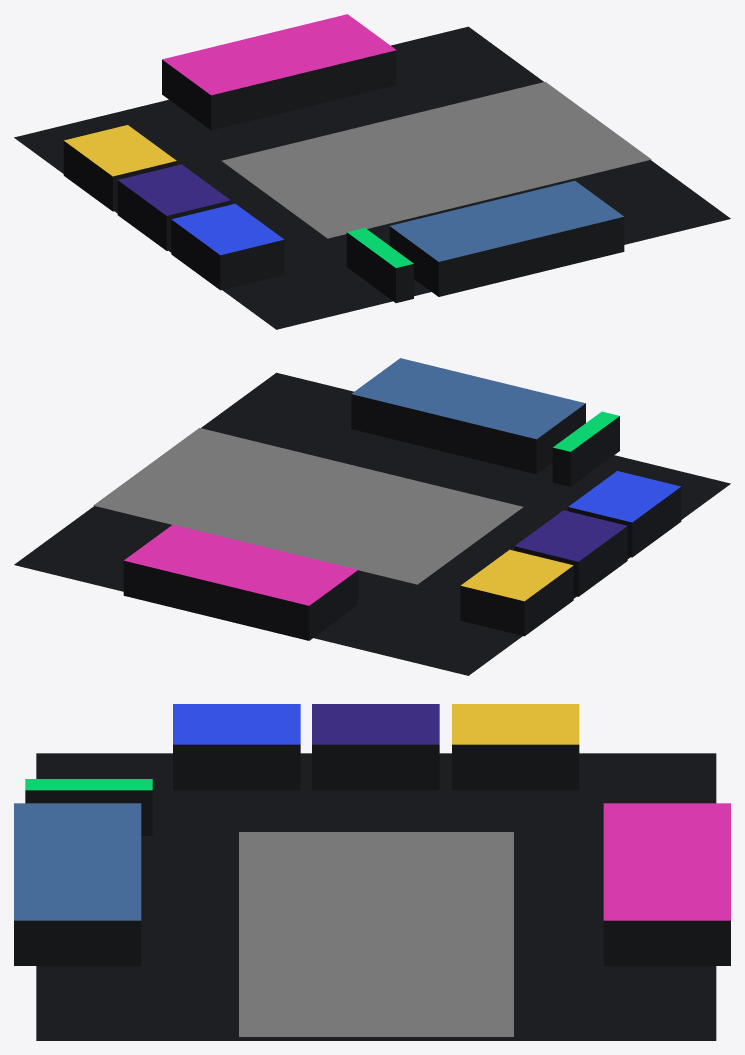
The model's file is Piso2_AgoraMap.glb.
3 views of the same model, one above another, from view 1: azimuth 30°, elevation 25°; view 2: azimuth 150°, elevation 25°; view 3: azimuth 270°, elevation 25° (orthographic). The views are drawn at different scales.
Visible parts, largest first — view 1: Cube.040, Cube.053, Cube.048, Cube.049, Cube.047, Cube.050, Cube.046, Cube.041, Cube.044, Cube.045, Cube.051, Cube.042 (+2 smaller); view 2: Cube.040, Cube.053, Cube.049, Cube.048, Cube.047, Cube.050, Cube.042, Cube.044, Cube.045, Cube.041, Cube.051, Cube.043 (+2 smaller); view 3: Cube.040, Cube.053, Cube.048, Cube.049, Cube.043, Cube.046, Cube.042, Cube.047, Cube.050, Cube.041, Cube.044, Cube.045 (+2 smaller).
Boxes of the visible parts, left/top/right/bottom form: Cube.040: left=14, top=26, right=730, bottom=329; Cube.053: left=221, top=81, right=651, bottom=238; Cube.048: left=162, top=14, right=396, bottom=95; Cube.049: left=390, top=181, right=623, bottom=261; Cube.047: left=162, top=50, right=396, bottom=130; Cube.050: left=389, top=217, right=624, bottom=296; Cube.046: left=171, top=219, right=284, bottom=290; Cube.041: left=64, top=125, right=176, bottom=176; Cube.044: left=118, top=164, right=230, bottom=215; Cube.045: left=172, top=203, right=283, bottom=255; Cube.051: left=346, top=232, right=413, bottom=302; Cube.042: left=63, top=141, right=176, bottom=211; Cube.040: left=14, top=372, right=730, bottom=675; Cube.053: left=93, top=428, right=523, bottom=584; Cube.049: left=351, top=358, right=585, bottom=439; Cube.048: left=124, top=524, right=357, bottom=605; Cube.047: left=123, top=560, right=358, bottom=640; Cube.050: left=351, top=394, right=585, bottom=474; Cube.042: left=460, top=565, right=573, bottom=636; Cube.044: left=514, top=510, right=627, bottom=561; Cube.045: left=568, top=471, right=680, bottom=522; Cube.041: left=461, top=549, right=573, bottom=601; Cube.051: left=552, top=416, right=619, bottom=486; Cube.043: left=514, top=526, right=627, bottom=596; Cube.040: left=36, top=753, right=716, bottom=1040; Cube.053: left=239, top=832, right=513, bottom=1036; Cube.048: left=603, top=803, right=730, bottom=920; Cube.049: left=14, top=803, right=141, bottom=920; Cube.043: left=312, top=744, right=439, bottom=789; Cube.046: left=173, top=744, right=300, bottom=789; Cube.042: left=452, top=744, right=579, bottom=789; Cube.047: left=603, top=920, right=730, bottom=965; Cube.050: left=14, top=920, right=141, bottom=965; Cube.041: left=452, top=704, right=579, bottom=744; Cube.044: left=312, top=704, right=439, bottom=744; Cube.045: left=173, top=704, right=300, bottom=744.
Size of the model in its own units: 2.01 by 0.1543 by 2.11.
